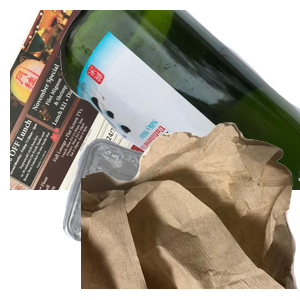glass: (60, 10, 300, 190)
paper: (10, 10, 250, 190)
plastic: (60, 136, 237, 300)
trash: (81, 120, 300, 300)
